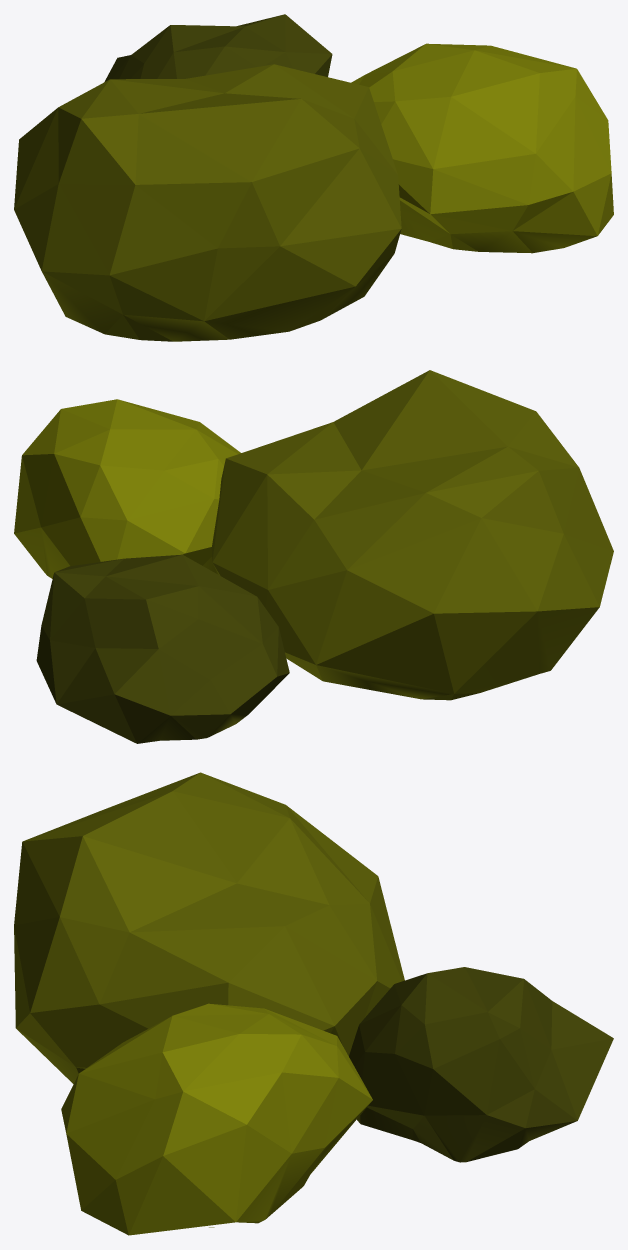
File: SM__Savanna__Bush__Growth__1.fbx
The picture shows the model from 3 angles, top to bottom: view 1: azimuth 30°, elevation 25°; view 2: azimuth 150°, elevation 25°; view 3: azimuth 270°, elevation 25°; orthographic projection. The views are drawn at different scales.
Visible parts, largest first — view 1: normal17; view 2: normal17; view 3: normal17.
Boxes of the visible parts, box(x1,y1,x2,y2) form: normal17: box(14, 14, 613, 341); normal17: box(14, 370, 613, 743); normal17: box(14, 772, 613, 1235).
Bounding box in the file's own units: 2.99 × 1.12 × 2.61.
